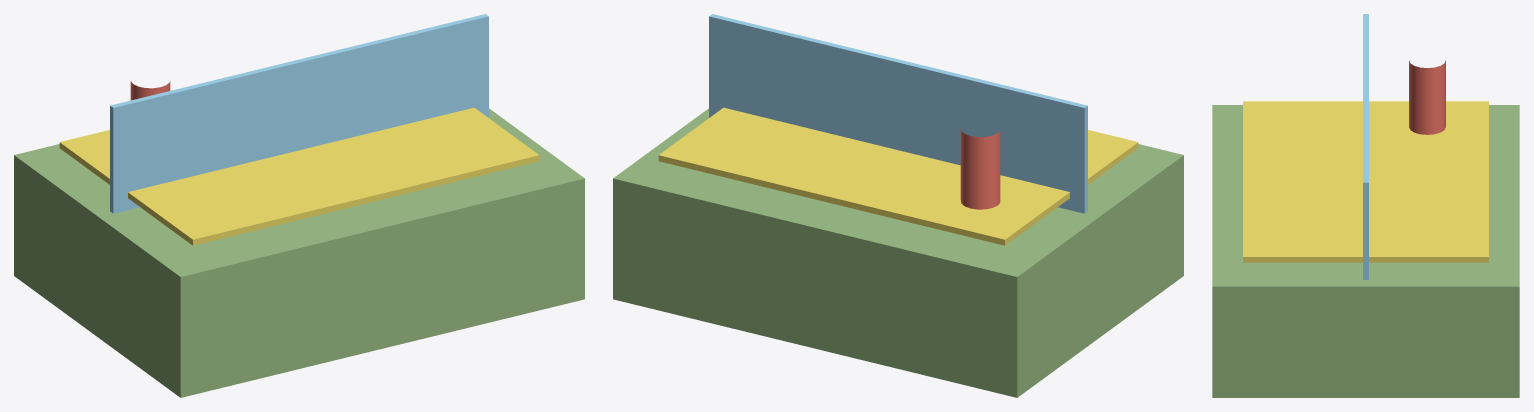
Rendered from contour_interpolation_profile_levelling.glb.
The picture shows the model from 3 angles, left to right: view 1: azimuth 30°, elevation 25°; view 2: azimuth 150°, elevation 25°; view 3: azimuth 270°, elevation 25°; orthographic projection. The views are drawn at different scales.
Parts seen in each view (by area): view 1: TopographicTerrainContourBlock, ProfileSectionCuttingPlane, ContourInterpolationGridFrame; view 2: TopographicTerrainContourBlock, ProfileSectionCuttingPlane, ContourInterpolationGridFrame, ElevationBenchmarkSurveyMarkers; view 3: TopographicTerrainContourBlock, ContourInterpolationGridFrame, ElevationBenchmarkSurveyMarkers, ProfileSectionCuttingPlane.
Boxes of the visible parts, box(x1,y1,x2,y2) form: TopographicTerrainContourBlock: box(14, 108, 584, 397); ProfileSectionCuttingPlane: box(110, 14, 488, 213); ContourInterpolationGridFrame: box(59, 107, 539, 245); TopographicTerrainContourBlock: box(613, 108, 1183, 397); ProfileSectionCuttingPlane: box(709, 14, 1087, 213); ContourInterpolationGridFrame: box(658, 107, 1138, 245); ElevationBenchmarkSurveyMarkers: box(960, 128, 1000, 209); TopographicTerrainContourBlock: box(1212, 105, 1519, 397); ContourInterpolationGridFrame: box(1243, 101, 1488, 262); ElevationBenchmarkSurveyMarkers: box(1409, 60, 1445, 134); ProfileSectionCuttingPlane: box(1363, 14, 1368, 279).
Bounding box in the file's own units: 1.4 × 0.75 × 1.
